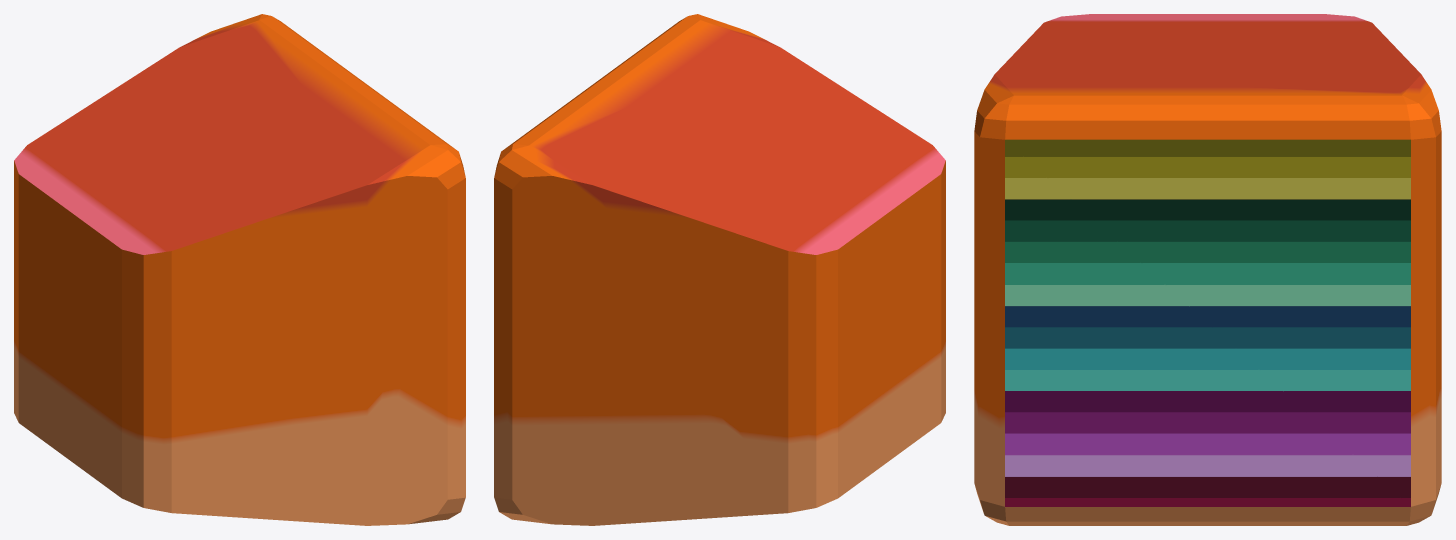
File: speaker.obj
3 renders of one model, left to right at view 1: azimuth 30°, elevation 25°; view 2: azimuth 150°, elevation 25°; view 3: azimuth 270°, elevation 25°, orthographic. The views are drawn at different scales.
Parts seen in each view (by area): view 1: Cube; view 2: Cube; view 3: Cube.
Part boxes in pixels (x1,y1,x2,y2): Cube: [14, 14, 465, 525]; Cube: [494, 14, 945, 525]; Cube: [974, 14, 1441, 525].
Bounding box in the file's own units: 0.2519 × 0.296 × 0.2959.
